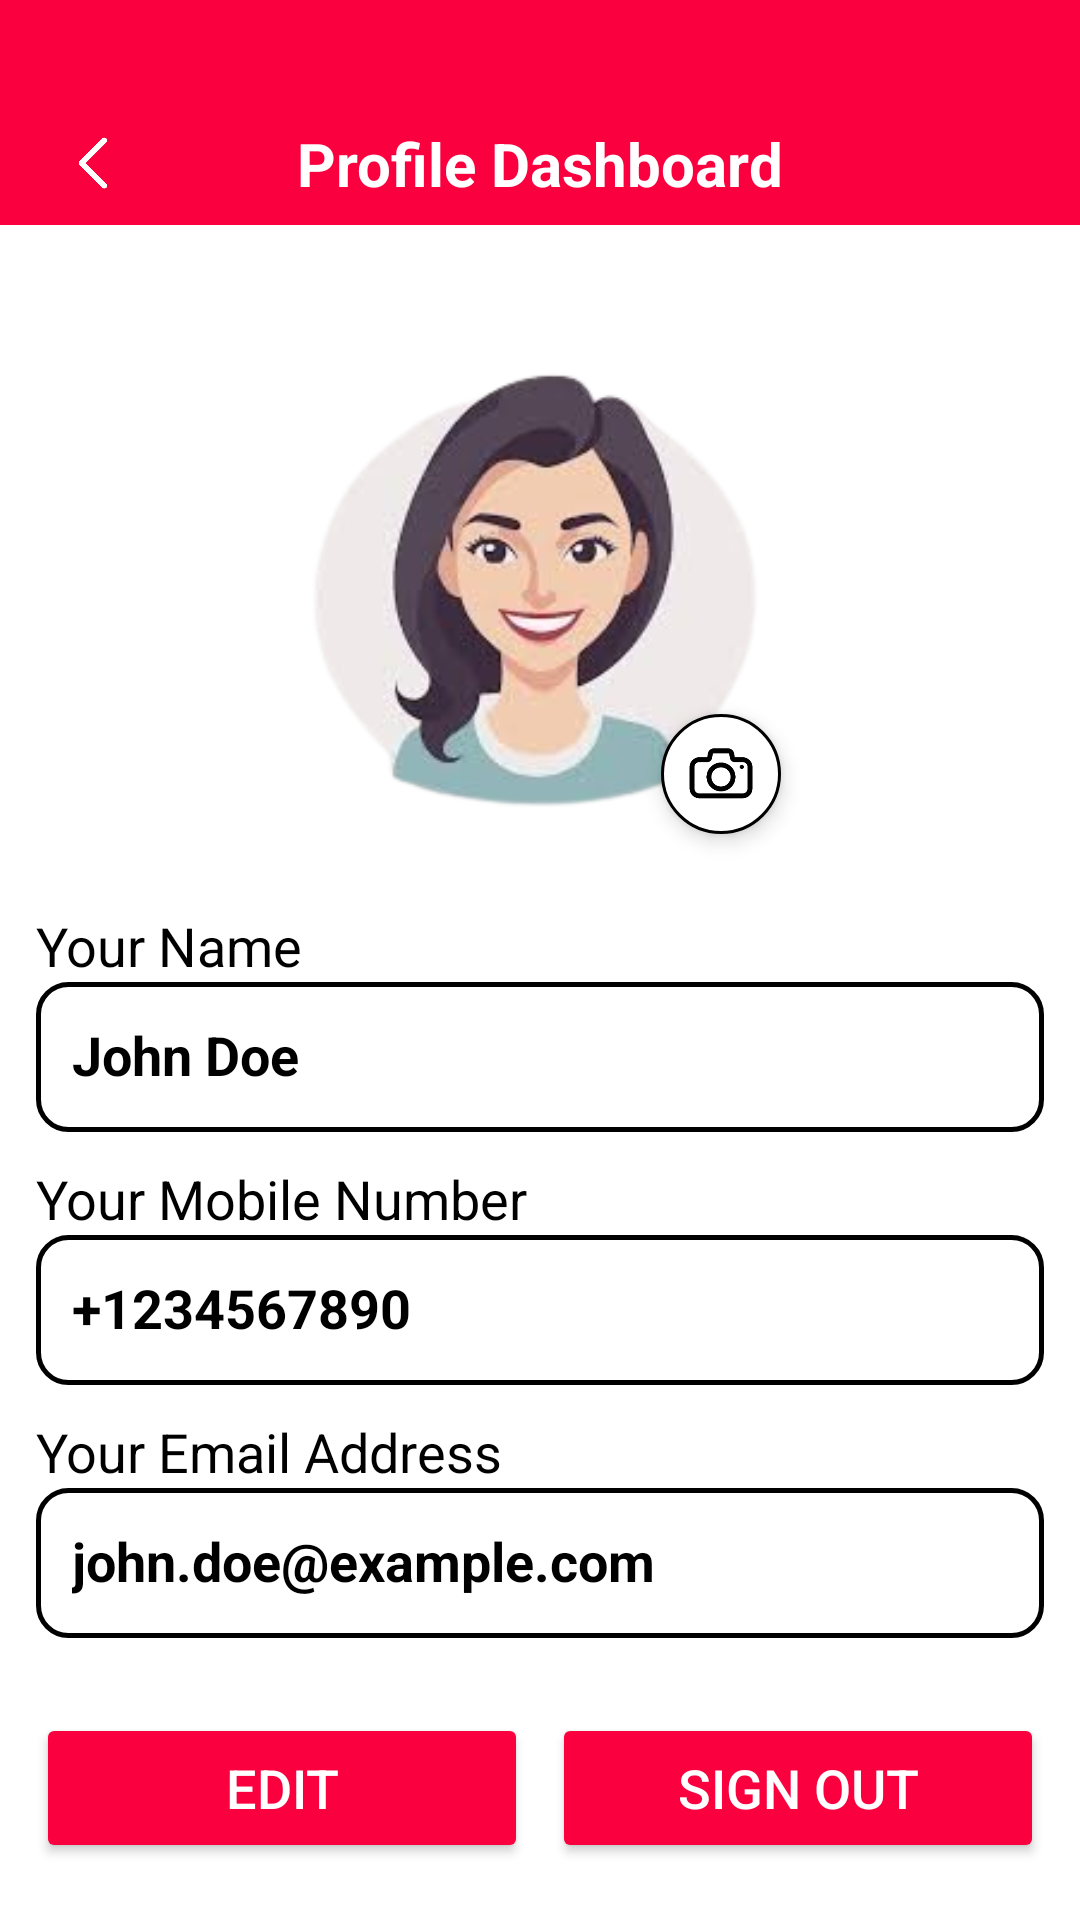

Point at icon controls on the screen. Image size 1080 x 1920, points as point (x, y).
Back: point (93, 163)
camera: point (721, 774)
